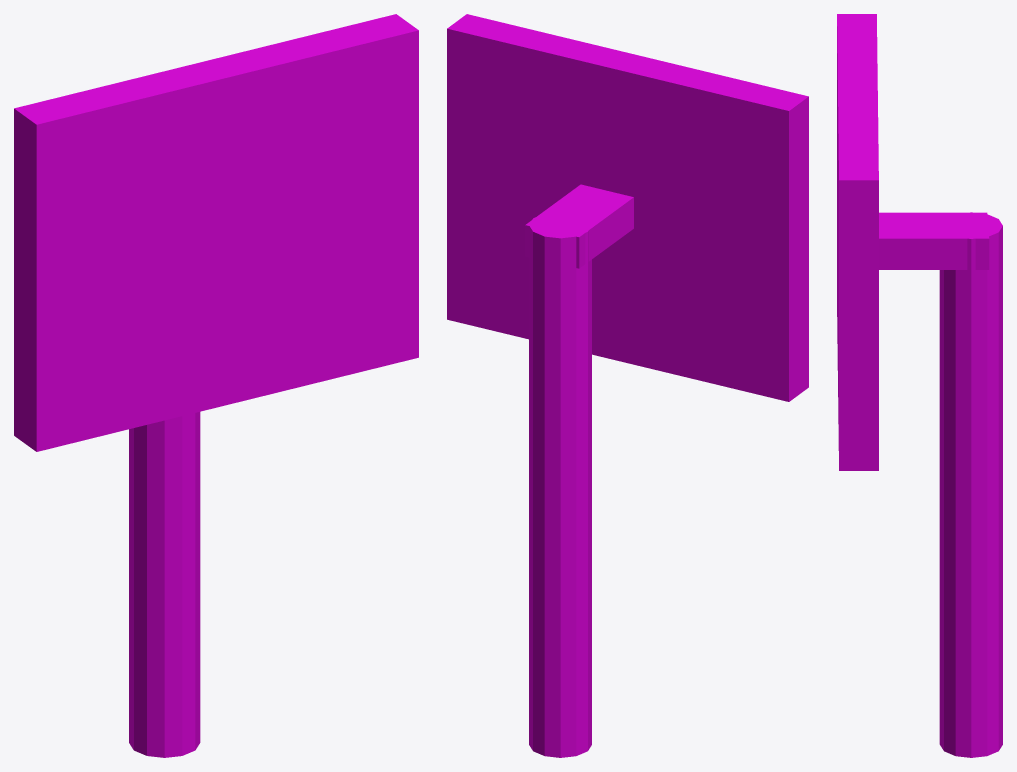
The model's file is SM_MachineDMonitorCollider.fbx.
3 renders of one model, left to right at view 1: azimuth 30°, elevation 25°; view 2: azimuth 150°, elevation 25°; view 3: azimuth 270°, elevation 25°, orthographic. The views are drawn at different scales.
Visible parts, largest first — view 1: MachineDMonitorCollision; view 2: MachineDMonitorCollision; view 3: MachineDMonitorCollision.
Part boxes in pixels (left/top/right/bottom): MachineDMonitorCollision: left=14, top=14, right=418, bottom=757; MachineDMonitorCollision: left=447, top=14, right=808, bottom=757; MachineDMonitorCollision: left=837, top=14, right=1002, bottom=757.
Size of the model in its own units: 36.4 by 65.56 by 15.35.
